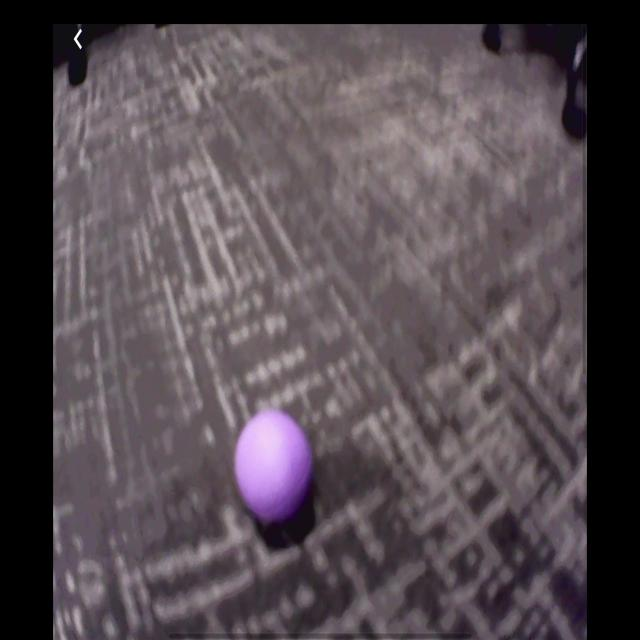ball: (234, 408, 315, 526)
